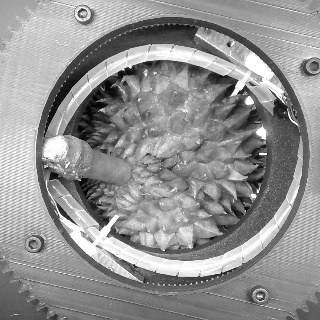base: (105, 157, 135, 189)
end: (43, 134, 69, 163)
